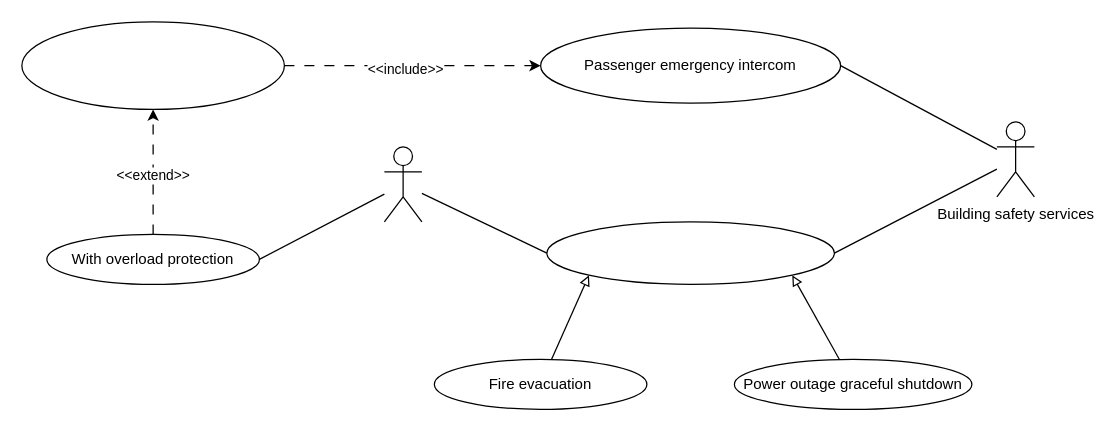
Image size: 1115x431. Some labels were removed from this diagram. Here are the shapes that lost their labels. From the top down, the centre of each, then its label:
At (x=152, y=65): "Get to a different floor via building elevator system".
At (x=402, y=184): "Passenger".
At (x=690, y=252): "Recall all elevator cars to safe floor".
